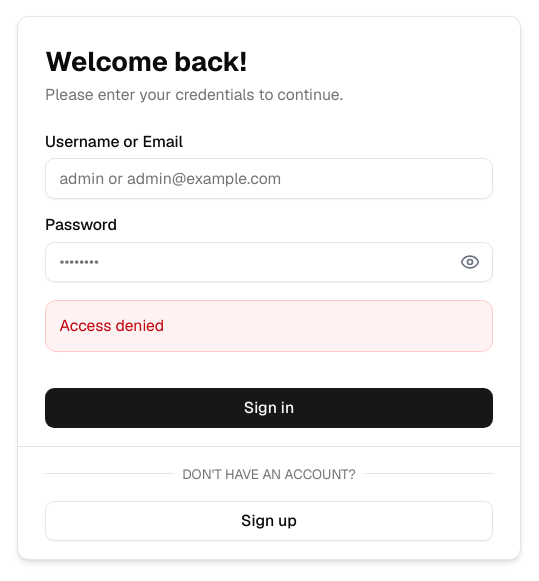
LoginForm › should handle signIn exception
Type "testuser" into the field labelled "Username or Email" at (269, 179), box [45, 158, 493, 199]
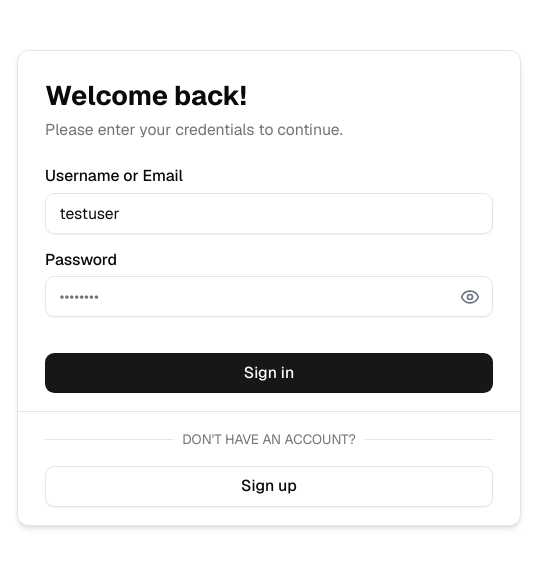
Type "password" into the password field labelled "Password" at (269, 297), box [45, 276, 493, 317]
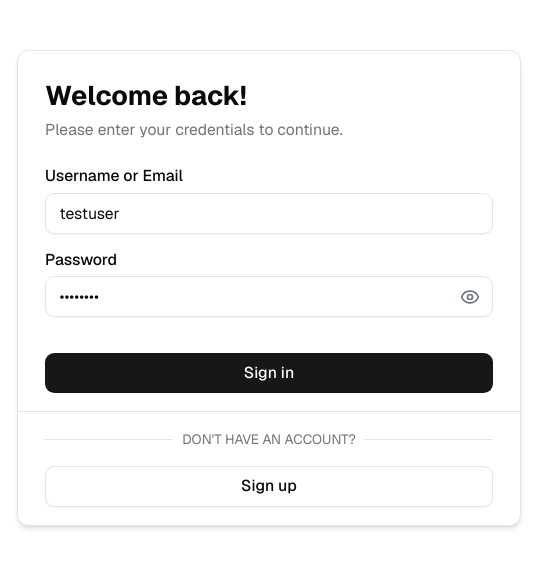
Click the button "Sign in" at (269, 373), box [45, 353, 493, 393]
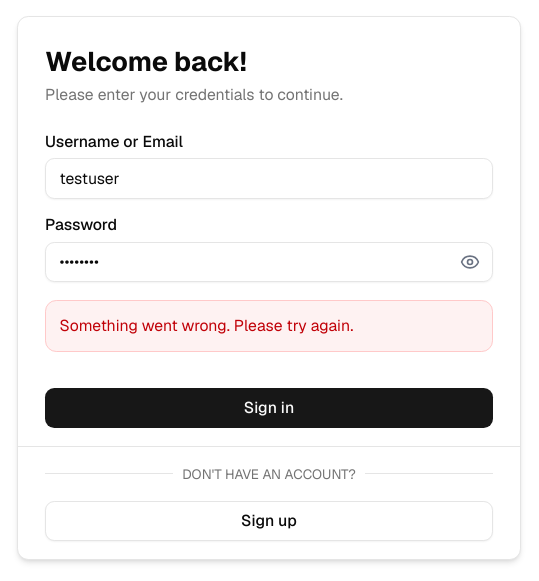
Result: the text "Something went wrong. Please try again." is shown at [45, 300, 493, 352]
